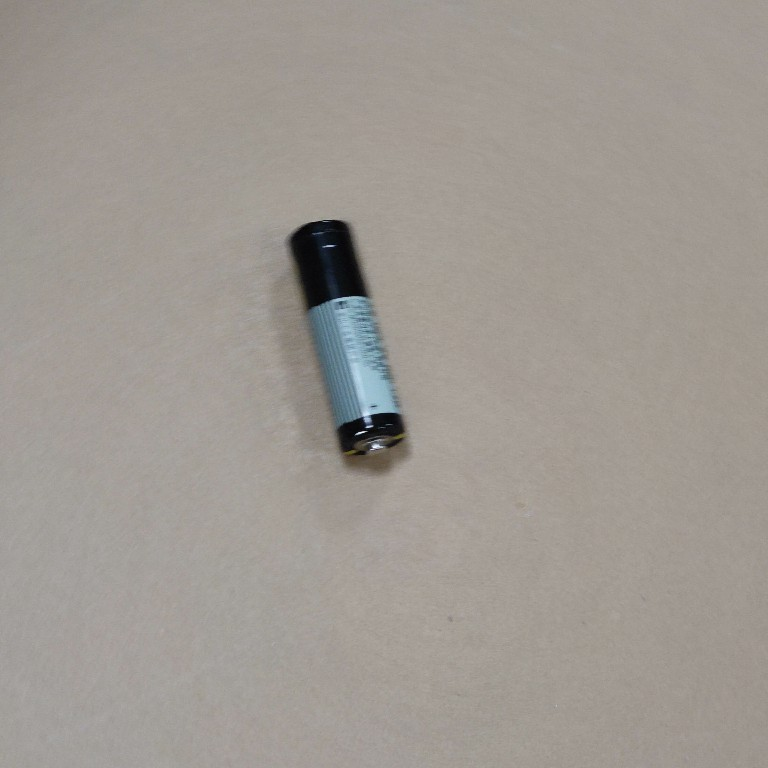charge: (284, 215, 411, 462)
